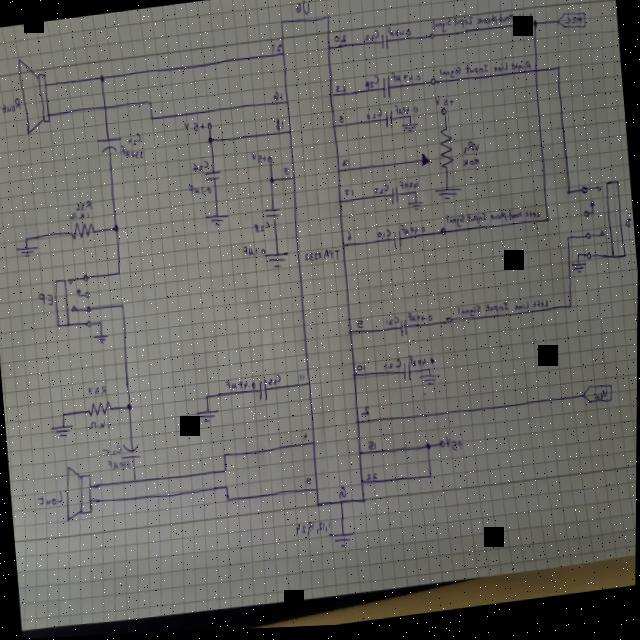capacitor: (96, 134, 124, 158), (121, 441, 143, 464), (257, 382, 270, 405), (391, 232, 404, 254), (264, 207, 283, 222), (205, 169, 223, 184), (397, 321, 410, 341), (383, 112, 395, 132), (379, 35, 391, 55), (382, 80, 392, 102), (390, 188, 400, 209), (403, 364, 413, 384)
crossover: (102, 105, 108, 111), (533, 73, 538, 79)
ground: (264, 251, 291, 272), (330, 533, 355, 552), (434, 189, 463, 205), (50, 423, 76, 439), (206, 213, 229, 230), (197, 410, 219, 427), (420, 376, 442, 391), (16, 244, 39, 257), (407, 203, 425, 215), (401, 125, 419, 136), (572, 266, 587, 279), (94, 333, 110, 345)
junction: (97, 73, 107, 85), (125, 402, 134, 413), (112, 223, 120, 235), (204, 395, 211, 403), (565, 193, 572, 201), (544, 220, 551, 228), (268, 178, 275, 186), (148, 116, 155, 123), (61, 411, 68, 418), (426, 445, 431, 454), (555, 69, 561, 76), (532, 24, 537, 32), (428, 476, 434, 482), (120, 303, 126, 309), (147, 100, 153, 106), (224, 469, 229, 476), (208, 139, 213, 146), (117, 270, 122, 276), (224, 454, 229, 460), (568, 308, 573, 314), (566, 240, 571, 246), (133, 477, 138, 483), (227, 499, 231, 504), (25, 236, 29, 241), (428, 370, 432, 375), (225, 488, 229, 492), (99, 321, 103, 325), (408, 118, 412, 122), (576, 257, 580, 261)
resistor: (418, 130, 456, 180), (70, 220, 96, 242), (87, 398, 114, 419)
source: (440, 110, 448, 120)
terminal: (581, 184, 628, 272), (53, 273, 94, 333), (582, 388, 615, 412), (558, 15, 587, 36), (266, 157, 274, 166), (206, 123, 213, 133), (439, 443, 446, 452), (446, 320, 453, 328), (441, 230, 447, 239), (430, 80, 435, 88), (430, 36, 434, 41)
text: (430, 9, 533, 40), (445, 203, 542, 234), (439, 60, 531, 88), (458, 298, 549, 325), (296, 521, 332, 540), (303, 249, 340, 266), (224, 378, 257, 397), (390, 70, 421, 88), (120, 142, 144, 163), (400, 224, 428, 242), (408, 355, 437, 372), (37, 491, 65, 508), (386, 26, 411, 43), (0, 95, 21, 115), (407, 313, 434, 328), (188, 183, 213, 199), (106, 457, 131, 472), (393, 104, 418, 119), (243, 245, 266, 261), (445, 437, 464, 456), (87, 419, 112, 433), (184, 120, 205, 136), (102, 443, 122, 459), (294, 1, 311, 19), (461, 143, 481, 158), (383, 360, 402, 375), (250, 222, 271, 235), (397, 182, 418, 195), (362, 32, 381, 46), (69, 210, 91, 222), (88, 385, 108, 398), (435, 99, 454, 112), (128, 132, 143, 148), (461, 160, 481, 172), (39, 291, 54, 307), (364, 77, 380, 92), (365, 110, 382, 124), (192, 161, 209, 174), (373, 185, 389, 198), (365, 473, 381, 486), (76, 200, 93, 212), (564, 20, 583, 30), (267, 376, 282, 388), (386, 318, 401, 330), (376, 230, 391, 242), (252, 153, 267, 164), (333, 35, 348, 46), (334, 85, 347, 97), (360, 407, 372, 420), (595, 394, 609, 405), (340, 487, 349, 502), (343, 189, 355, 200), (272, 93, 283, 104), (356, 365, 367, 376), (276, 121, 285, 134), (367, 443, 377, 454), (282, 168, 291, 179), (356, 321, 365, 332), (337, 116, 346, 127), (272, 44, 281, 55), (625, 220, 632, 234), (341, 161, 350, 171), (305, 477, 313, 488), (301, 433, 309, 443), (346, 233, 353, 244), (299, 376, 306, 384)
